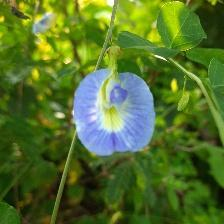shankupushpam: (71, 66, 160, 159)
